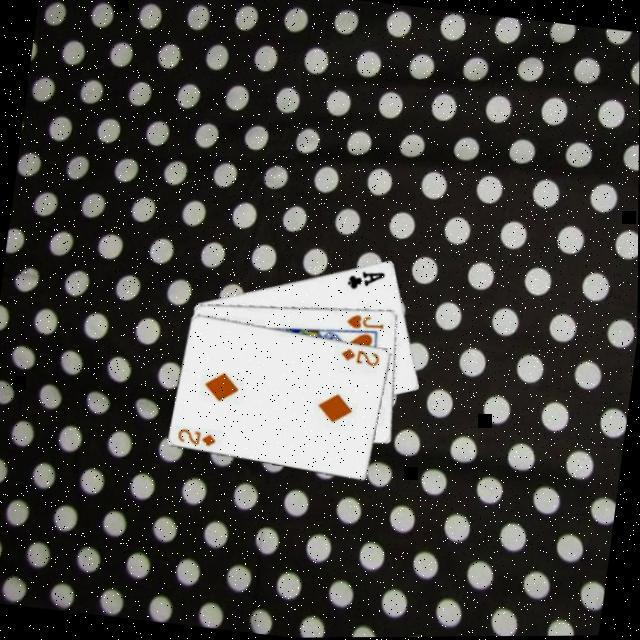2D: (338, 344, 384, 368), (176, 424, 220, 449)
AC: (344, 264, 390, 294)
JH: (344, 310, 388, 334)
